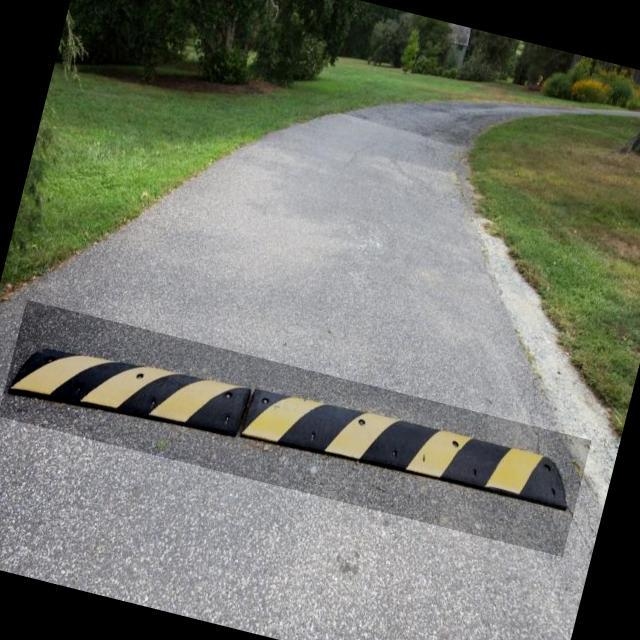speedbreaker: (0, 300, 591, 557)
